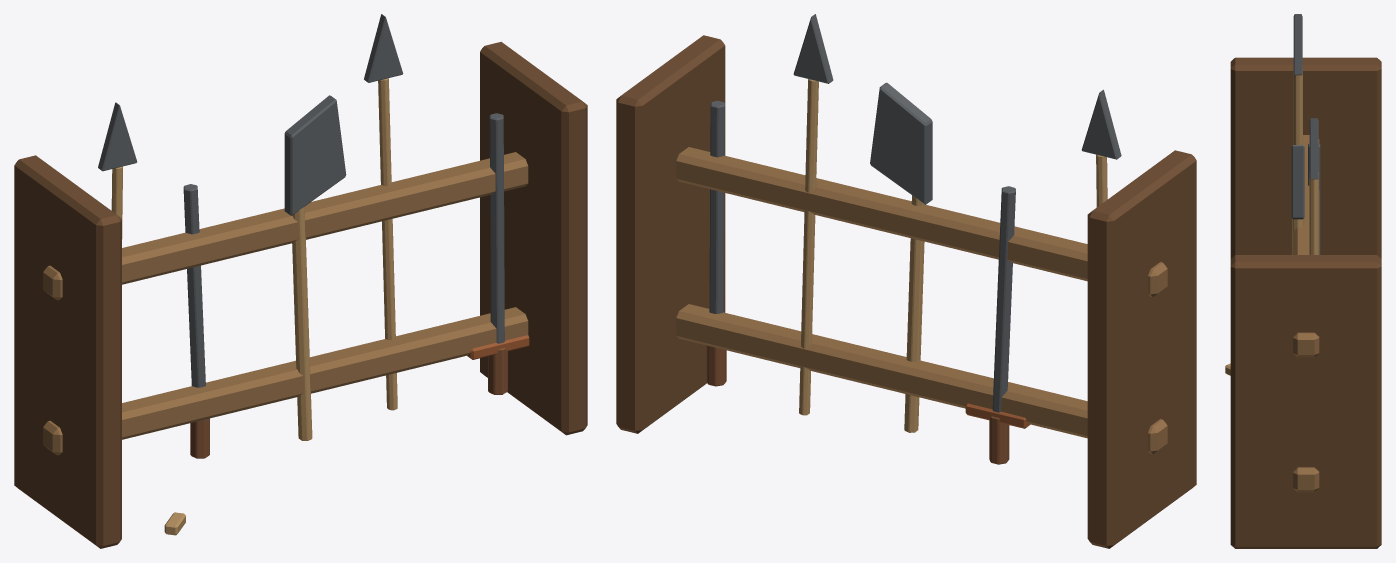
File: runtime.glb
The picture shows the model from 3 angles, left to right: view 1: azimuth 30°, elevation 25°; view 2: azimuth 150°, elevation 25°; view 3: azimuth 270°, elevation 25°; orthographic projection. The views are drawn at different scales.
Parts seen in each view (by area): view 1: falkenwacht-weapon-rack-v04_nocol; view 2: falkenwacht-weapon-rack-v04_nocol; view 3: falkenwacht-weapon-rack-v04_nocol.
Part boxes in pixels (box(x1,y1,x2,y2)): falkenwacht-weapon-rack-v04_nocol: box(14, 14, 587, 548); falkenwacht-weapon-rack-v04_nocol: box(616, 14, 1196, 548); falkenwacht-weapon-rack-v04_nocol: box(1225, 14, 1381, 548).
Size of the model in its own units: 2.52 by 2 by 0.7761.
